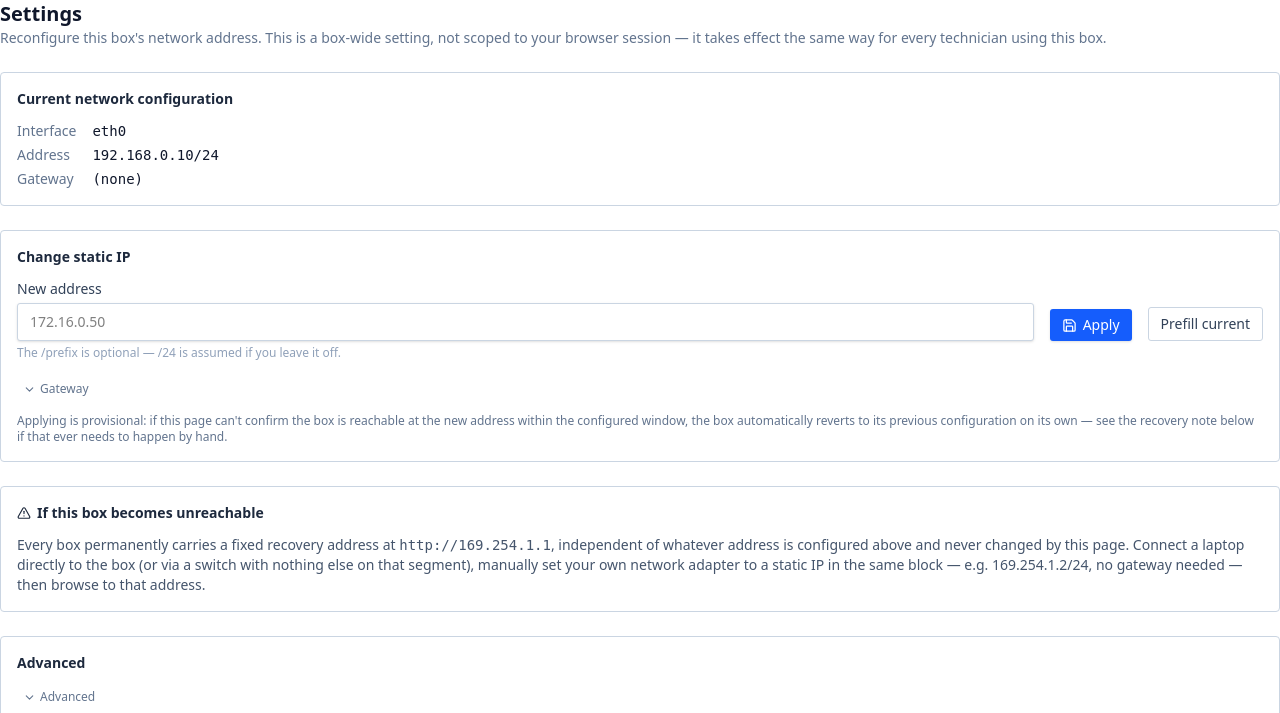
Test: SettingsView advanced section › says so when some files could not be cleared
The width and height of the screenshot is (1280, 713).
Click the button "Advanced". click: click(59, 697)
box: [17,685,101,709]
(page scrolled)
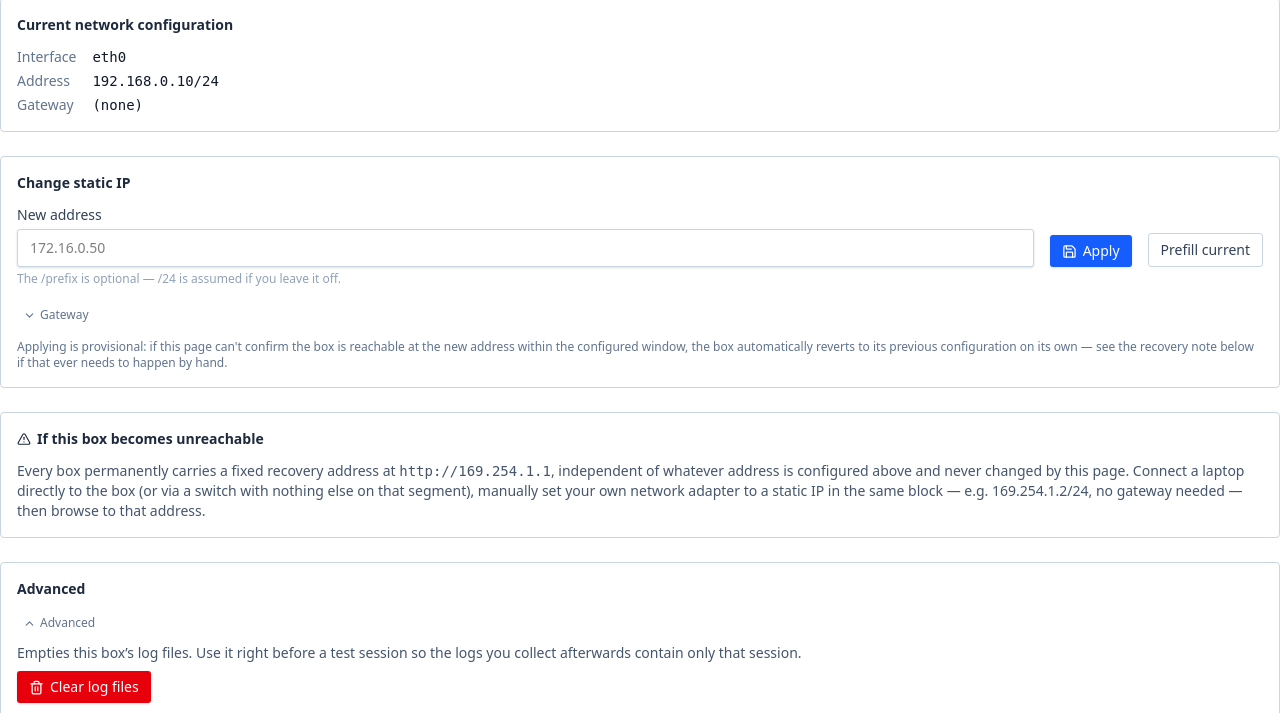
Now the button "Clear log files" is shown
Click the button "Clear log files". click: click(84, 687)
box: [17,671,151,703]
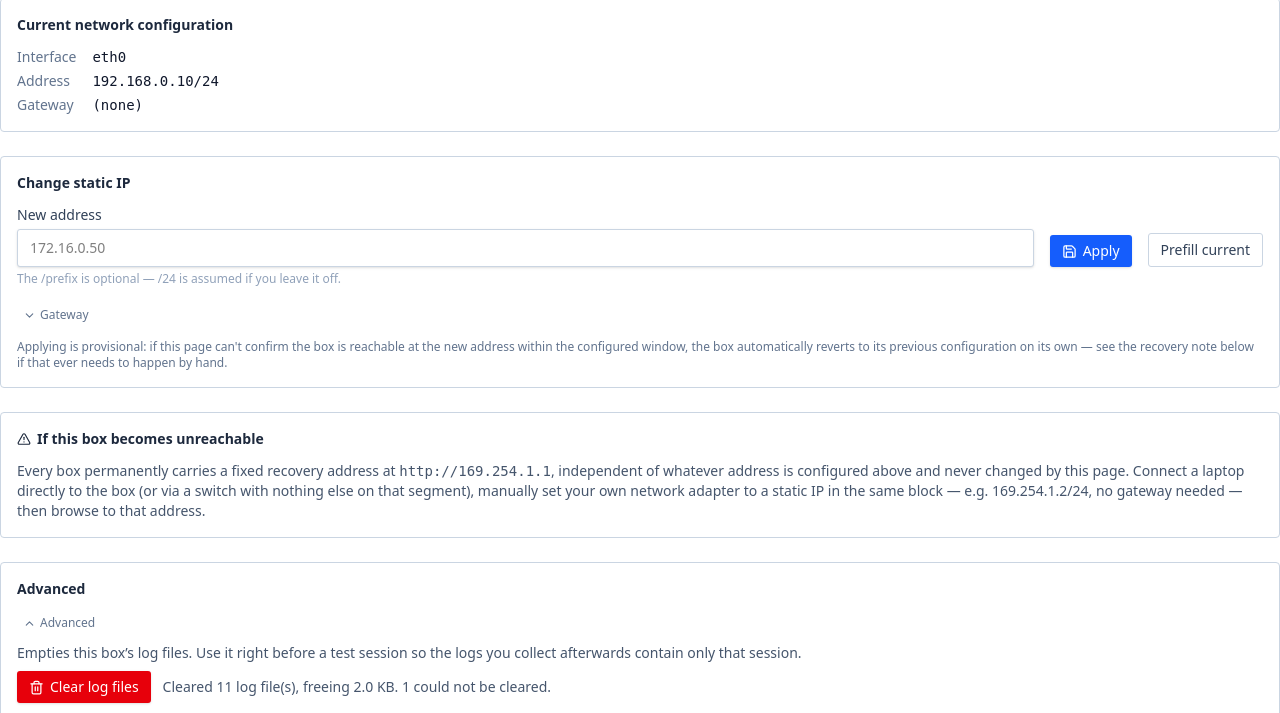
Now the text "11" is shown, box [163,677,551,696]
Now the text "could not be cleared" is shown, box [163,677,551,696]
